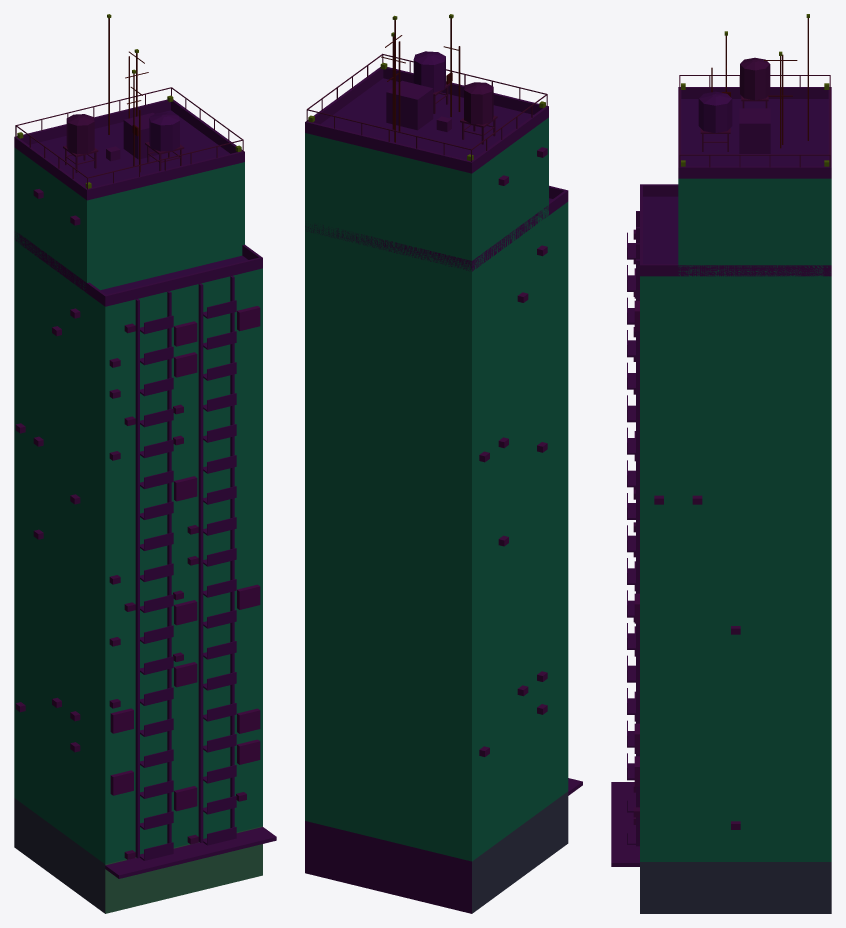
File: slab_j.glb
The picture shows the model from 3 angles, left to right: view 1: azimuth 30°, elevation 25°; view 2: azimuth 150°, elevation 25°; view 3: azimuth 270°, elevation 25°; orthographic projection. The views are drawn at different scales.
Visible parts, largest first — view 1: slab_j; view 2: slab_j; view 3: slab_j.
Boxes of the visible parts, x1,y1,x2,y2 form: slab_j: (14,14,276,913); slab_j: (305,14,582,913); slab_j: (611,14,831,913).
Bounding box in the file's own units: 17.1 × 79.41 × 18.4.
